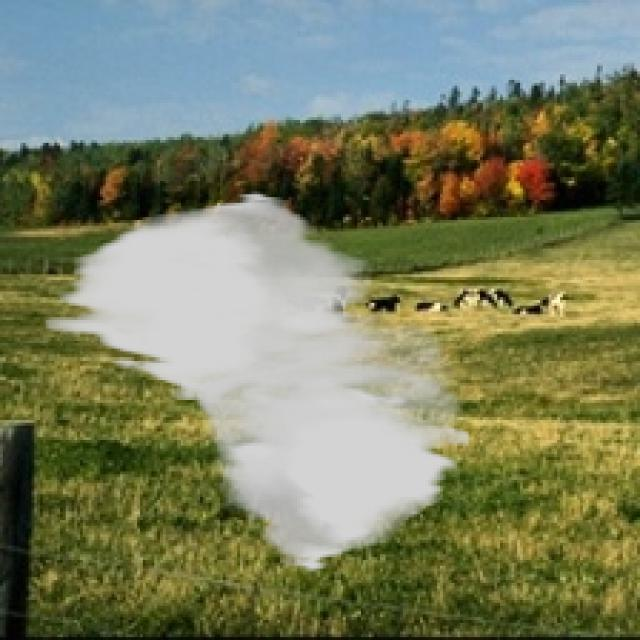smoke: (46, 192, 471, 574)
